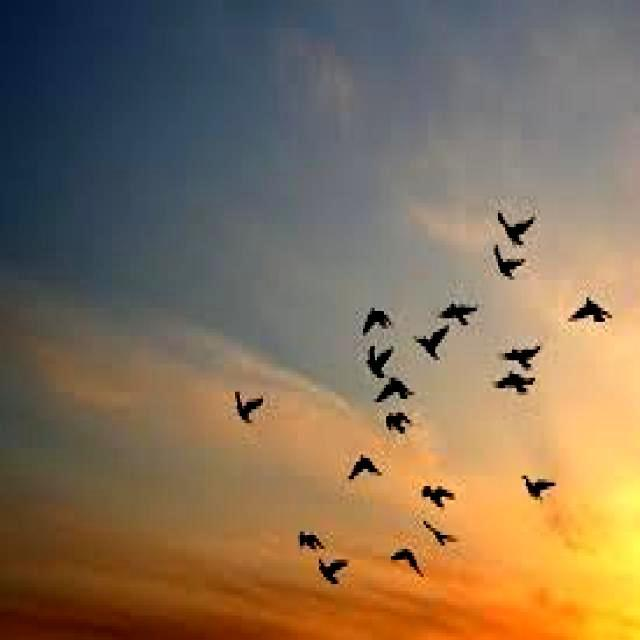bird: (432, 288, 483, 334), (517, 460, 569, 504), (356, 285, 393, 345), (495, 201, 540, 249), (416, 322, 452, 382), (346, 440, 388, 490), (346, 346, 400, 384), (489, 369, 547, 404), (570, 286, 619, 326), (366, 372, 422, 407), (230, 374, 266, 426), (392, 540, 425, 590), (422, 472, 456, 518), (312, 544, 349, 586), (492, 241, 525, 287), (285, 524, 332, 556), (420, 516, 457, 554), (379, 406, 416, 444), (494, 339, 544, 367)
